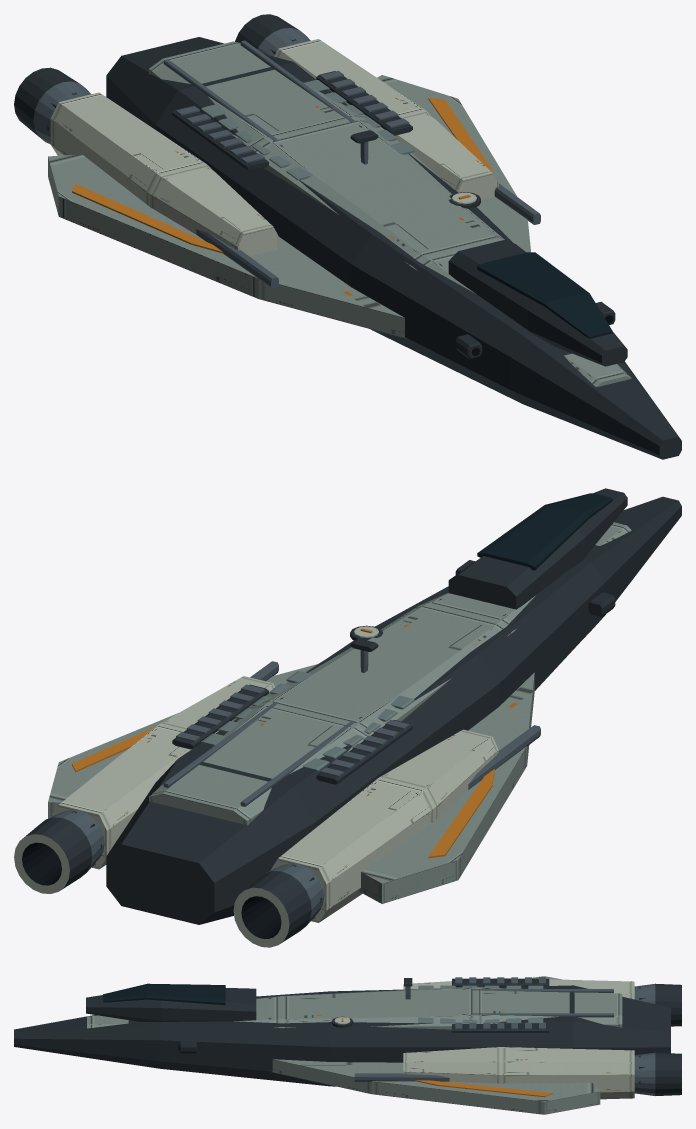
File: interceptor-high.glb
3 views of the same model, one above another, from view 1: azimuth 30°, elevation 25°; view 2: azimuth 150°, elevation 25°; view 3: azimuth 270°, elevation 25° (orthographic). The views are drawn at different scales.
Visible parts, largest first — view 1: AV_interceptor-high; view 2: AV_interceptor-high; view 3: AV_interceptor-high.
Part boxes in pixels (bbox=[...]): AV_interceptor-high: bbox=[14, 14, 681, 459]; AV_interceptor-high: bbox=[14, 488, 681, 947]; AV_interceptor-high: bbox=[14, 976, 681, 1114].
Bounding box in the file's own units: 0.813 × 0.2895 × 1.83.
Materials: 1 (1 with a texture image).
